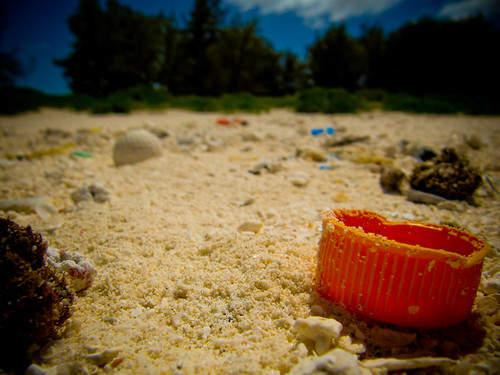trash: (32, 100, 500, 364)
vegetation: (76, 1, 500, 105)
